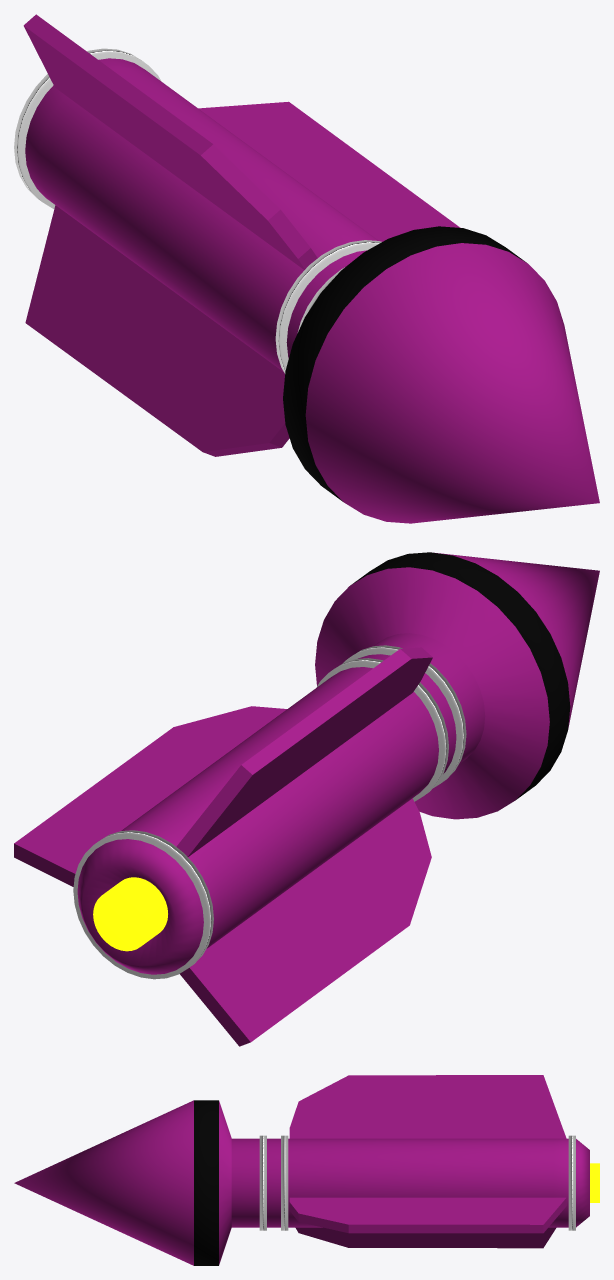
The model's file is cohete_galaxy_combat.glb.
3 renders of one model, top to bottom at view 1: azimuth 30°, elevation 25°; view 2: azimuth 150°, elevation 25°; view 3: azimuth 270°, elevation 25°, orthographic. The views are drawn at different scales.
Parts seen in each view (by area): view 1: Cone, Cylinder, Cube.003, Cube, Cube.002, Cylinder.002, Cylinder.003; view 2: Cylinder, Cone, Cube.003, Cube.002, Cube, Cylinder.002, Cylinder.003, Cylinder.001; view 3: Cylinder, Cone, Cube, Cube.002, Cube.003, Cylinder.002, Cylinder.001, Cylinder.003.
Boxes of the visible parts, left/top/right/bottom form: Cone: left=283, top=226, right=599, bottom=523; Cylinder: left=25, top=58, right=378, bottom=371; Cube.003: left=25, top=205, right=289, bottom=456; Cube: left=23, top=14, right=317, bottom=269; Cube.002: left=198, top=101, right=460, bottom=241; Cylinder.002: left=14, top=48, right=161, bottom=208; Cylinder.003: left=275, top=240, right=381, bottom=373; Cylinder: left=77, top=633, right=485, bottom=974; Cone: left=315, top=552, right=599, bottom=819; Cube.003: left=180, top=798, right=431, bottom=1046; Cube.002: left=14, top=706, right=286, bottom=886; Cube: left=176, top=647, right=432, bottom=856; Cylinder.002: left=73, top=830, right=213, bottom=979; Cylinder.003: left=316, top=658, right=448, bottom=801; Cylinder.001: left=343, top=645, right=466, bottom=787; Cylinder: left=231, top=1138, right=589, bottom=1227; Cone: left=14, top=1100, right=231, bottom=1265; Cube: left=289, top=1075, right=566, bottom=1138; Cube.002: left=289, top=1197, right=566, bottom=1233; Cube.003: left=295, top=1227, right=556, bottom=1248; Cylinder.002: left=568, top=1135, right=599, bottom=1230; Cylinder.001: left=259, top=1135, right=266, bottom=1230; Cylinder.003: left=281, top=1135, right=288, bottom=1230.
Size of the model in its own units: 1.36 by 1.35 by 4.16.
